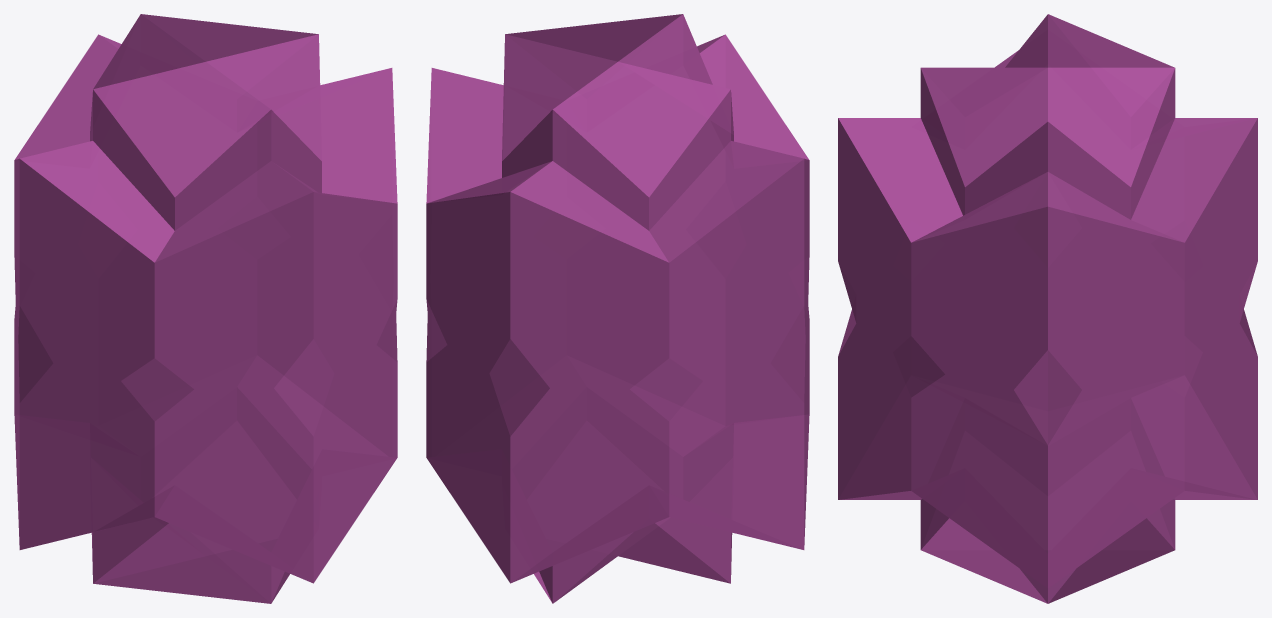
The model's file is GemB.fbx.
3 renders of one model, left to right at view 1: azimuth 30°, elevation 25°; view 2: azimuth 150°, elevation 25°; view 3: azimuth 270°, elevation 25°, orthographic. The views are drawn at different scales.
Visible parts, largest first — view 1: GemB; view 2: GemB; view 3: GemB.
Part boxes in pixels (x1=…): GemB: x1=14, y1=14, x2=397, y2=603; GemB: x1=426, y1=14, x2=809, y2=603; GemB: x1=838, y1=14, x2=1257, y2=603.
Size of the model in its own units: 7.67 by 9.73 by 7.67.
